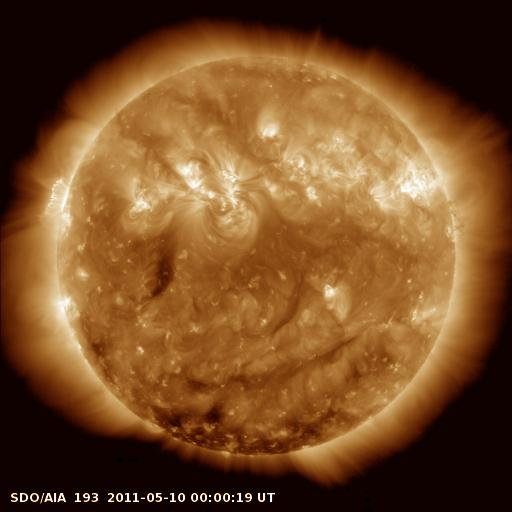coronal_hole: (150, 403, 328, 458), (141, 248, 183, 299)
